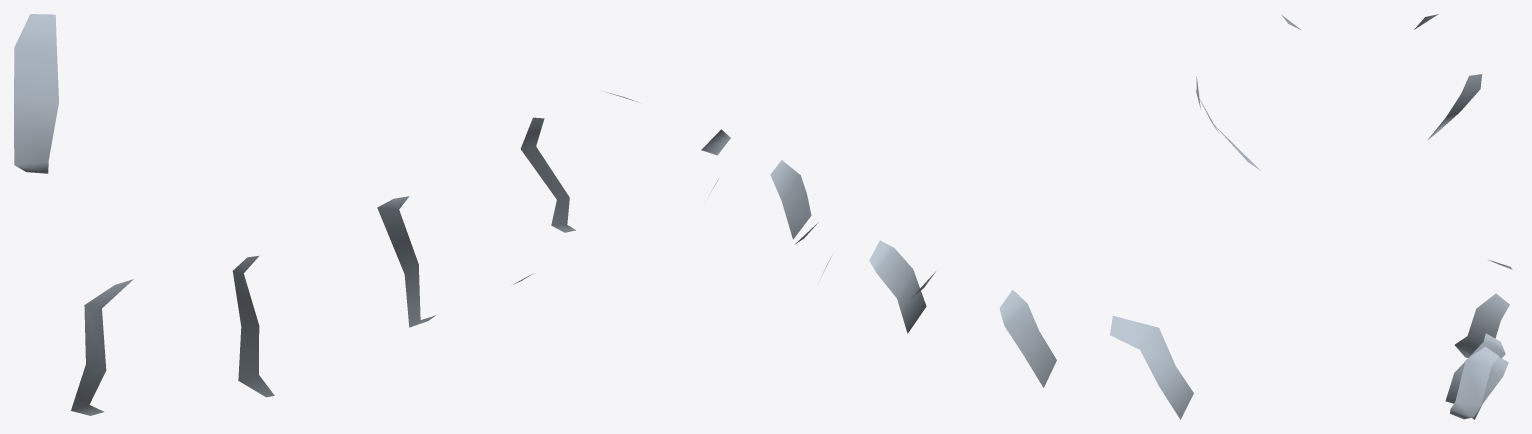
Rendered from collateral-metacarpophalangeal-ligaments-r.glb.
3 views of the same model, side by side, from view 1: azimuth 30°, elevation 25°; view 2: azimuth 150°, elevation 25°; view 3: azimuth 270°, elevation 25° (orthographic). The views are drawn at different scales.
Parts seen in each view (by area): view 1: Collateral metacarpophalangeal ligaments.r; view 2: Collateral metacarpophalangeal ligaments.r; view 3: Collateral metacarpophalangeal ligaments.r.
Boxes of the visible parts, x1,y1,x2,y2 form: Collateral metacarpophalangeal ligaments.r: (14, 14, 638, 415); Collateral metacarpophalangeal ligaments.r: (701, 14, 1300, 419); Collateral metacarpophalangeal ligaments.r: (1414, 14, 1512, 419).
Bounding box in the file's own units: 0.094 × 0.061 × 0.0247.
